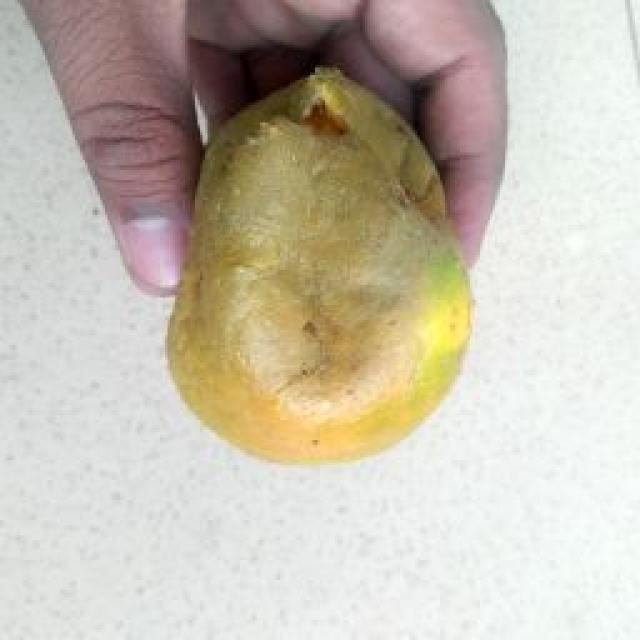Bad_Orange: (169, 68, 471, 461)
